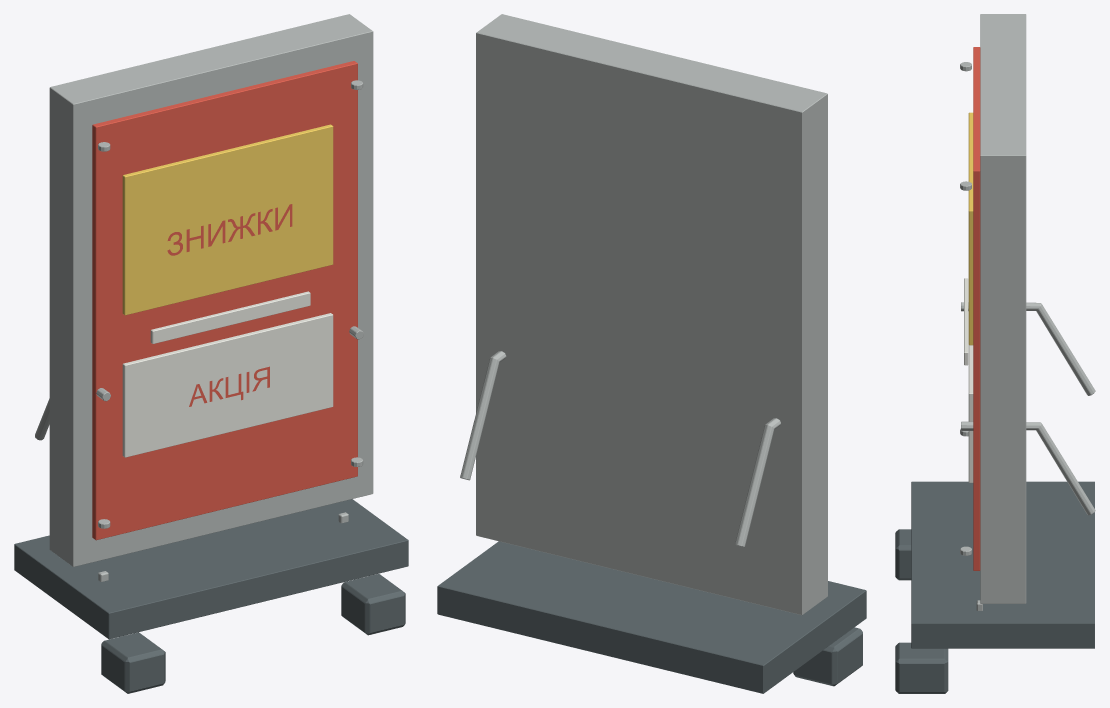
The model's file is Advertising_Poster.fbx.
The picture shows the model from 3 angles, left to right: view 1: azimuth 30°, elevation 25°; view 2: azimuth 150°, elevation 25°; view 3: azimuth 270°, elevation 25°; orthographic projection. The views are drawn at different scales.
Parts seen in each view (by area): view 1: Advertising_Poster__LPCXFER; view 2: Advertising_Poster__LPCXFER; view 3: Advertising_Poster__LPCXFER.
Boxes of the visible parts, x1,y1,x2,y2 form: Advertising_Poster__LPCXFER: (14,14,408,693); Advertising_Poster__LPCXFER: (437,14,866,693); Advertising_Poster__LPCXFER: (895,14,1095,693).
Size of the model in its own units: 95 by 170 by 56.61.
